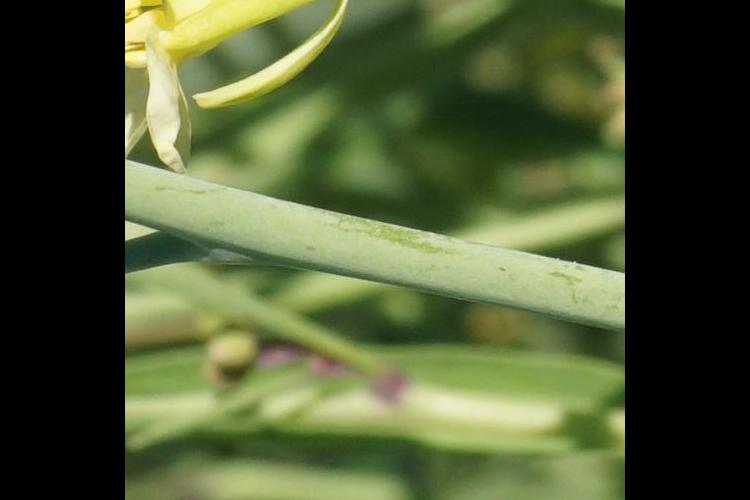yellow: (132, 1, 354, 152)
